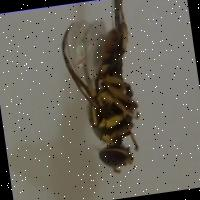Oriental-fruit-fly: (48, 5, 165, 194)
